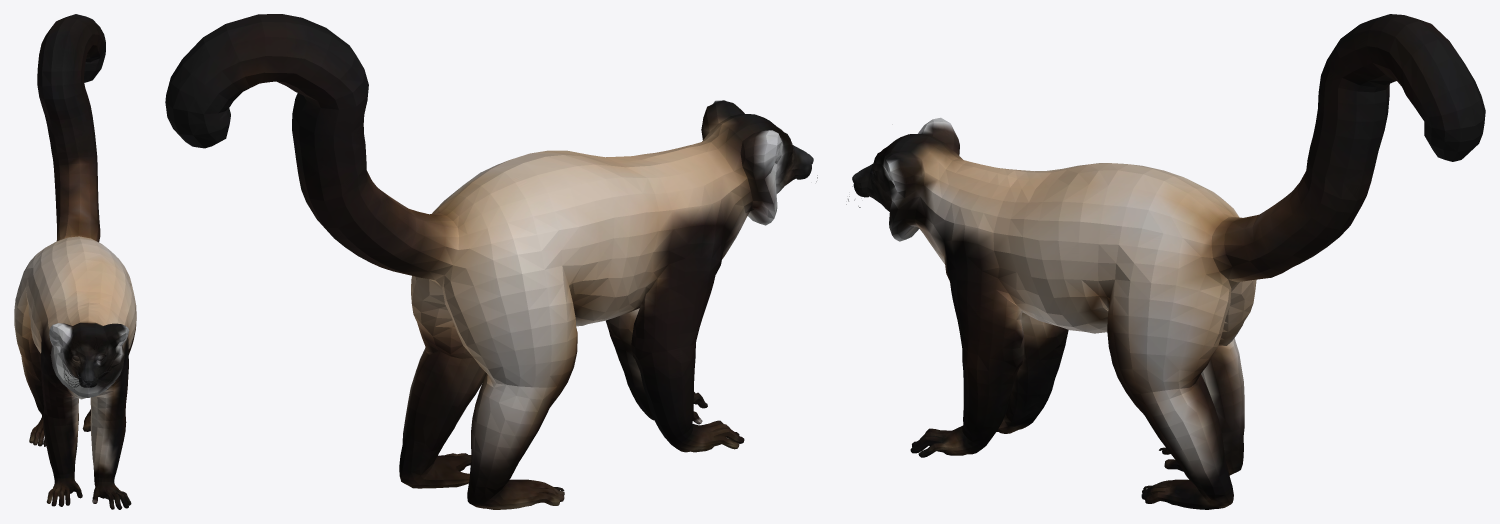
File: lemur.mesh.glb
3 views of the same model, side by side, from view 1: azimuth 30°, elevation 25°; view 2: azimuth 150°, elevation 25°; view 3: azimuth 270°, elevation 25° (orthographic). The views are drawn at different scales.
Visible parts, largest first — view 1: root; view 2: root; view 3: root.
Part boxes in pixels (left/top/right/bottom): root: left=14, top=14, right=136, bottom=509; root: left=165, top=14, right=817, bottom=509; root: left=846, top=14, right=1485, bottom=509.
Bounding box in the file's own units: 0.3762 × 0.5441 × 0.6144.
1 material, 1 textured.
